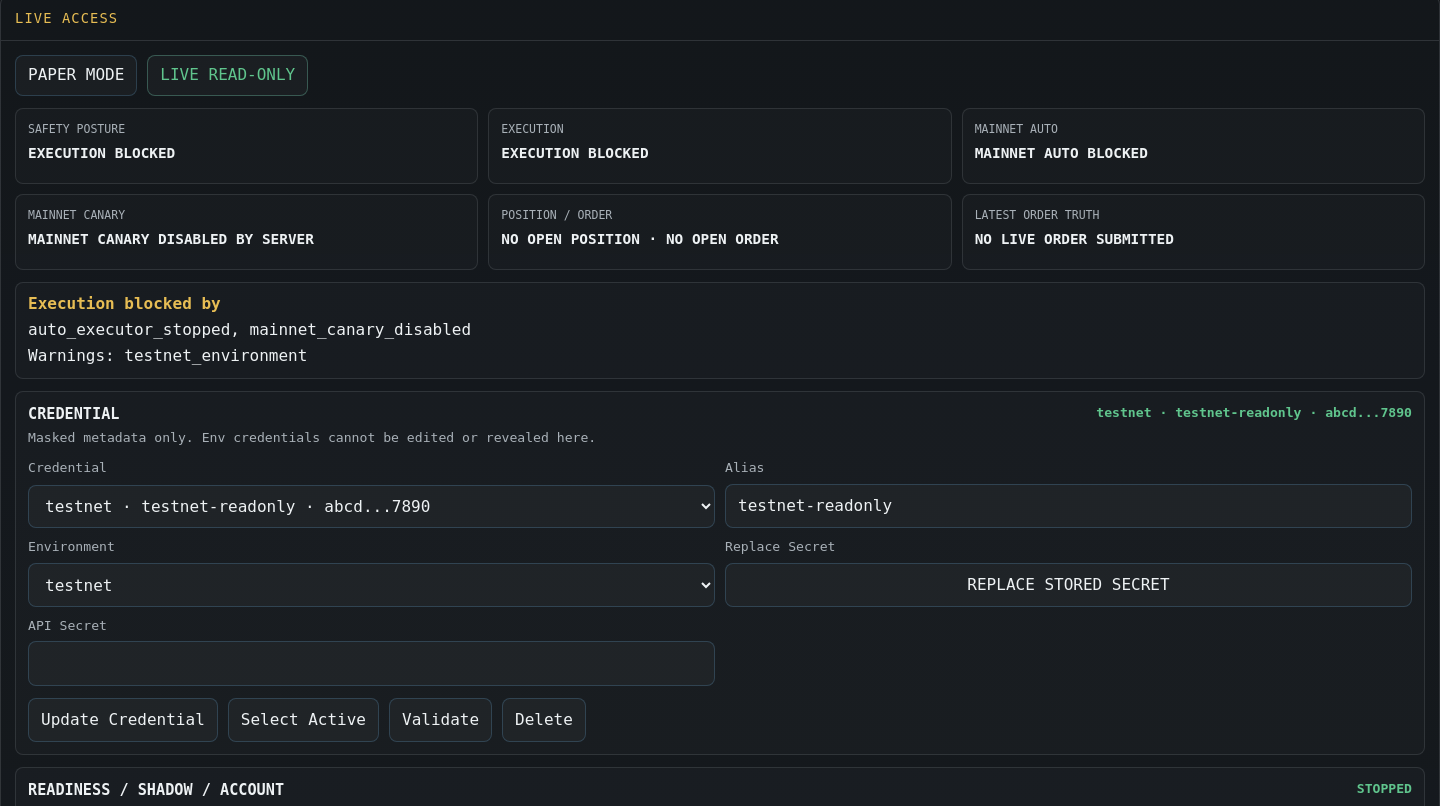
it: live access panel › renders validation success and validation failure feedback
The width and height of the screenshot is (1440, 806).
Click the button "Validate" at (441, 720), box [389,698,492,742]
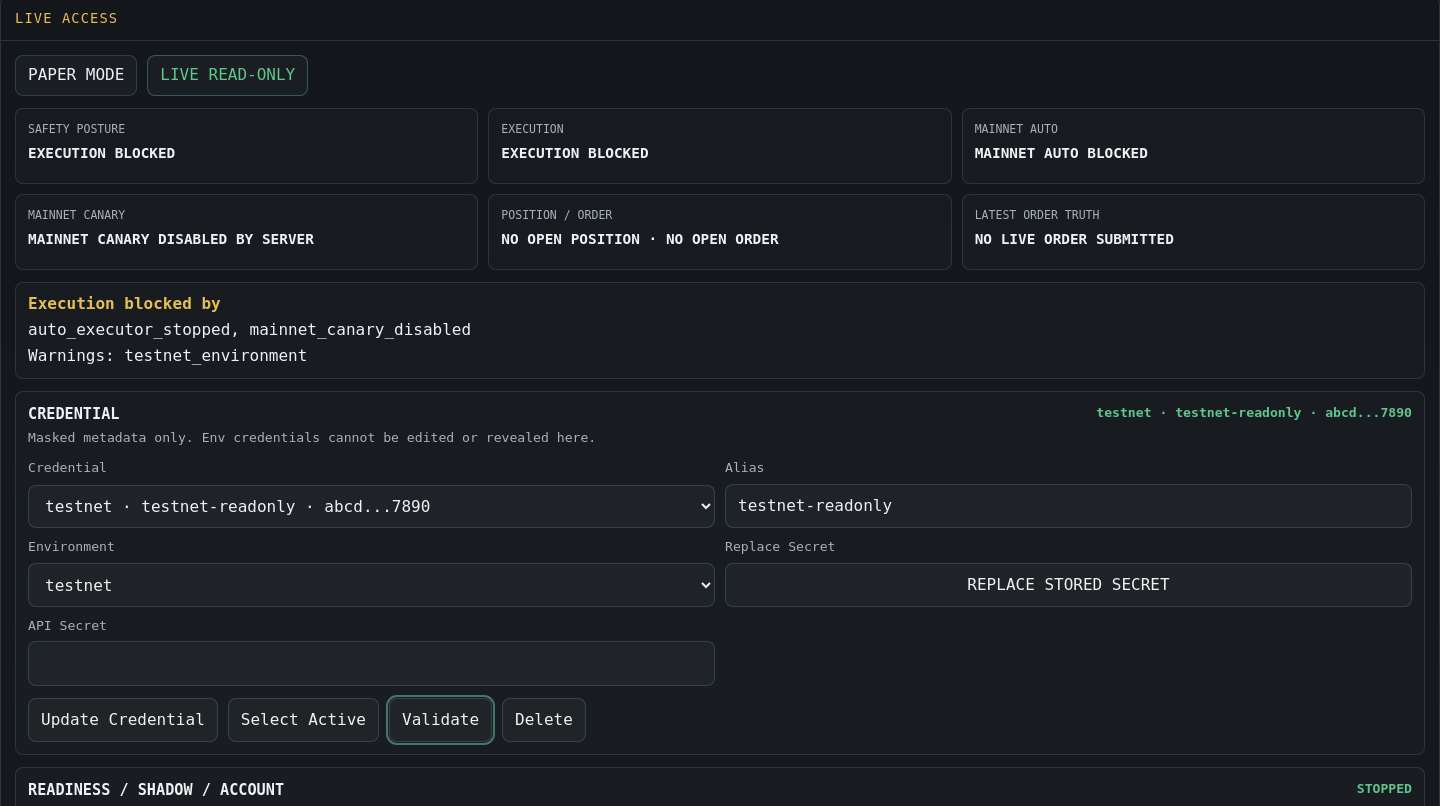
Click the button "Validate" at (441, 720), box [389,698,492,742]
(page scrolled)
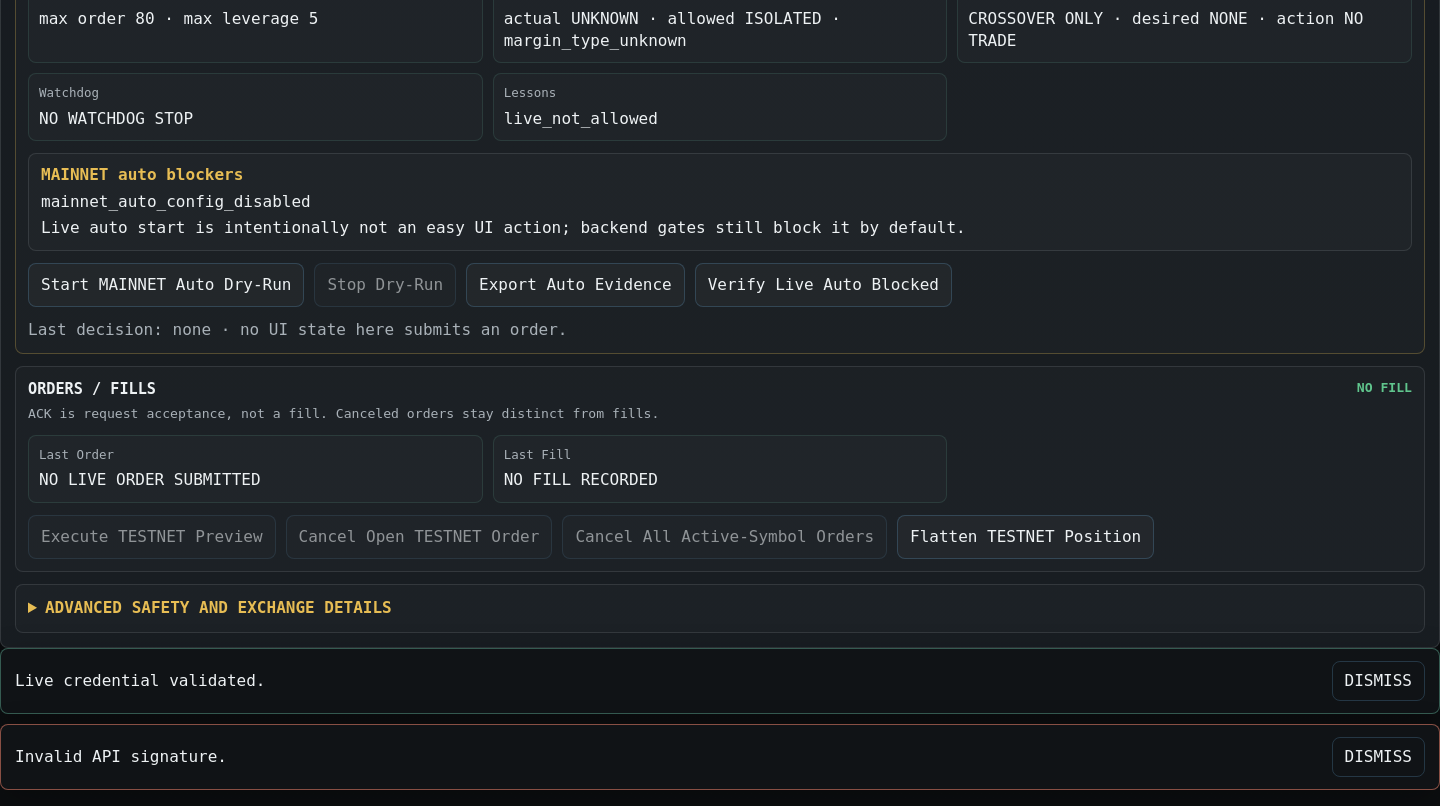
Expected: the text "Invalid API signature." is shown, [15,747,227,766]
